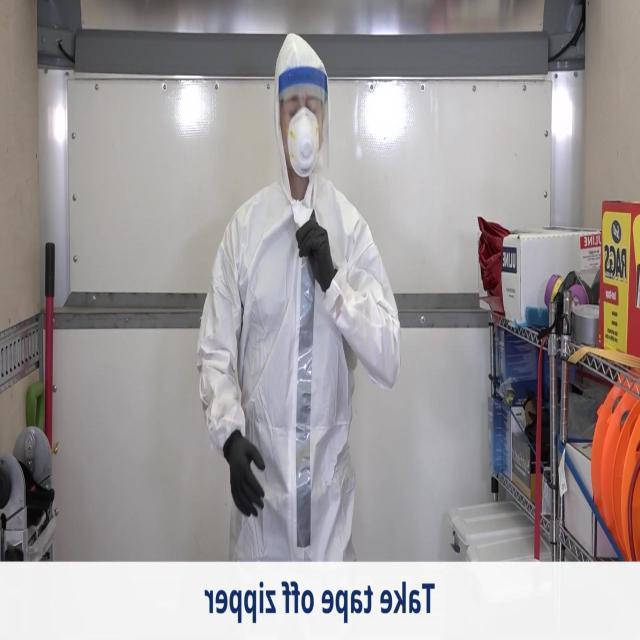gloves: (223, 430, 266, 520), (295, 220, 335, 294)
